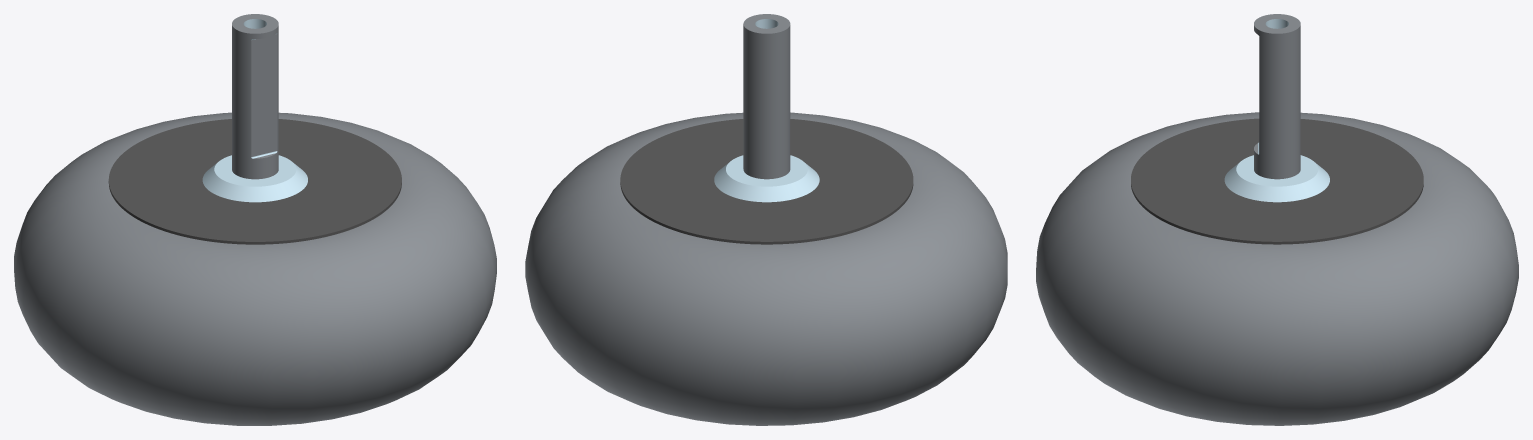
Rendered from hub_6.5in.dae.
3 views of the same model, side by side, from view 1: azimuth 30°, elevation 25°; view 2: azimuth 150°, elevation 25°; view 3: azimuth 270°, elevation 25° (orthographic).
Parts seen in each view (by area): view 1: ID2; view 2: ID2; view 3: ID2.
Part boxes in pixels (x1=…): ID2: x1=14, y1=14, x2=496, y2=425; ID2: x1=525, y1=14, x2=1007, y2=425; ID2: x1=1036, y1=14, x2=1518, y2=425.
Size of the model in its own units: 0.1647 by 0.1647 by 0.1257.
